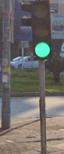greenlight: (31, 0, 52, 61)
